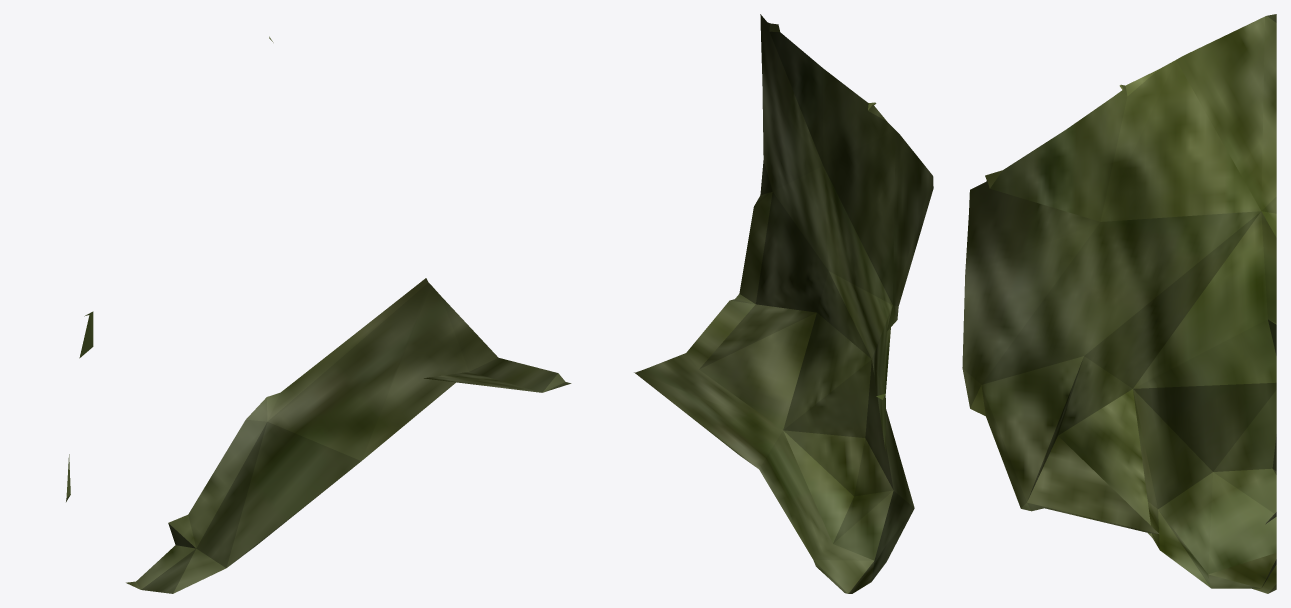
3 views of the same model, side by side, from view 1: azimuth 30°, elevation 25°; view 2: azimuth 150°, elevation 25°; view 3: azimuth 270°, elevation 25° (orthographic). The views are drawn at different scales.
Size of the model in its own units: 0.598 by 0.834 by 0.4491.
Materials: 1 (1 with a texture image).
